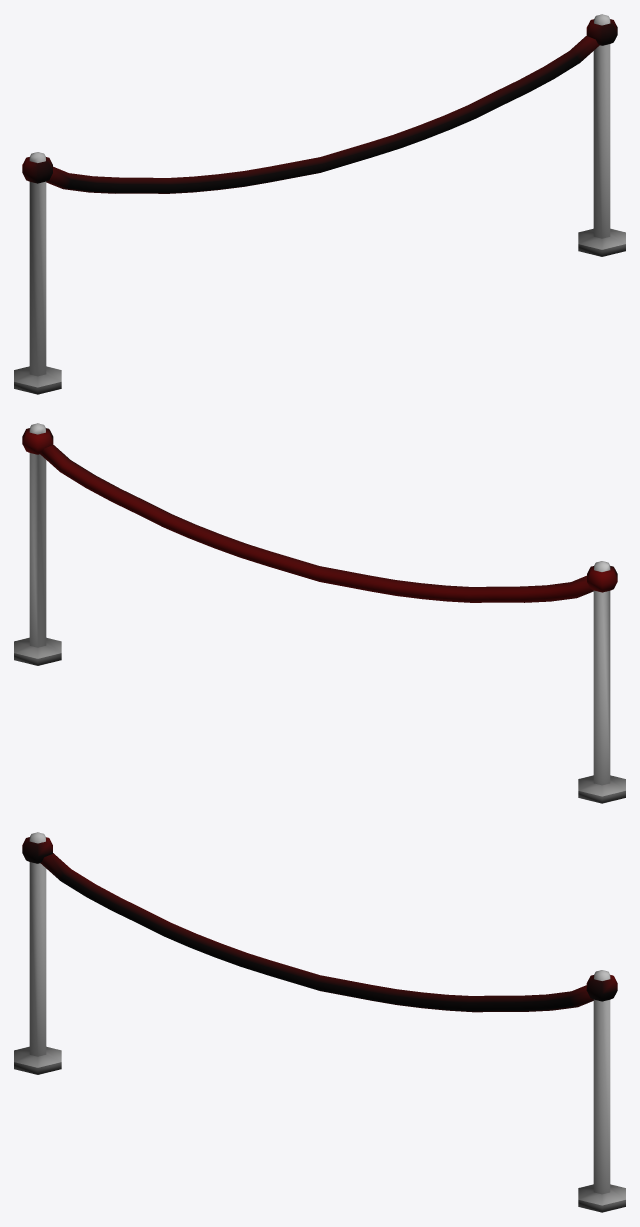
3 renders of one model, top to bottom at view 1: azimuth 30°, elevation 25°; view 2: azimuth 150°, elevation 25°; view 3: azimuth 330°, elevation 25°, orthographic.
Parts seen in each view (by area): view 1: Cordon; view 2: Cordon; view 3: Cordon.
Boxes of the visible parts, left/top/right/bottom form: Cordon: left=14, top=14, right=625, bottom=394; Cordon: left=14, top=423, right=625, bottom=803; Cordon: left=14, top=832, right=625, bottom=1212.
Size of the model in its own units: 0.5 by 0.1799 by 0.0338.
